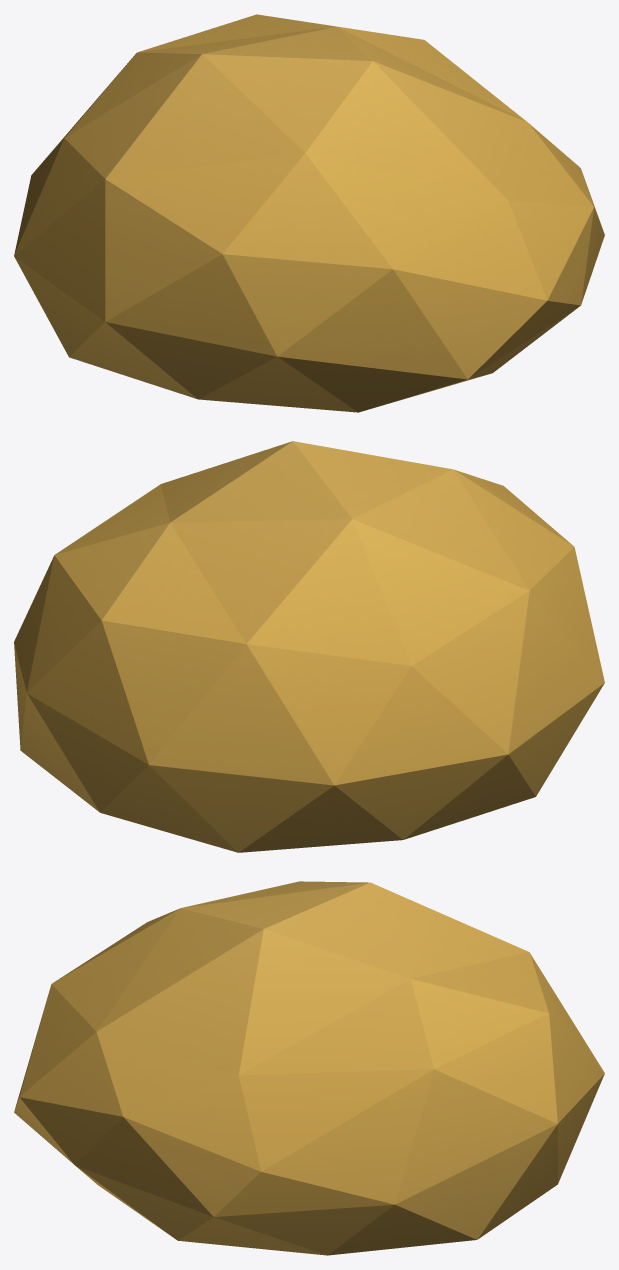
File: Forest_Stone_010.FBX
3 views of the same model, one above another, from view 1: azimuth 30°, elevation 25°; view 2: azimuth 150°, elevation 25°; view 3: azimuth 270°, elevation 25° (orthographic). The views are drawn at different scales.
Visible parts, largest first — view 1: Forest_Stone_010; view 2: Forest_Stone_010; view 3: Forest_Stone_010.
Part boxes in pixels (box(x1,y1,x2,y2)): Forest_Stone_010: box(14, 14, 604, 412); Forest_Stone_010: box(14, 441, 604, 852); Forest_Stone_010: box(14, 881, 604, 1255).
Size of the model in its own units: 249 by 124 by 274.
1 material, 1 textured.
